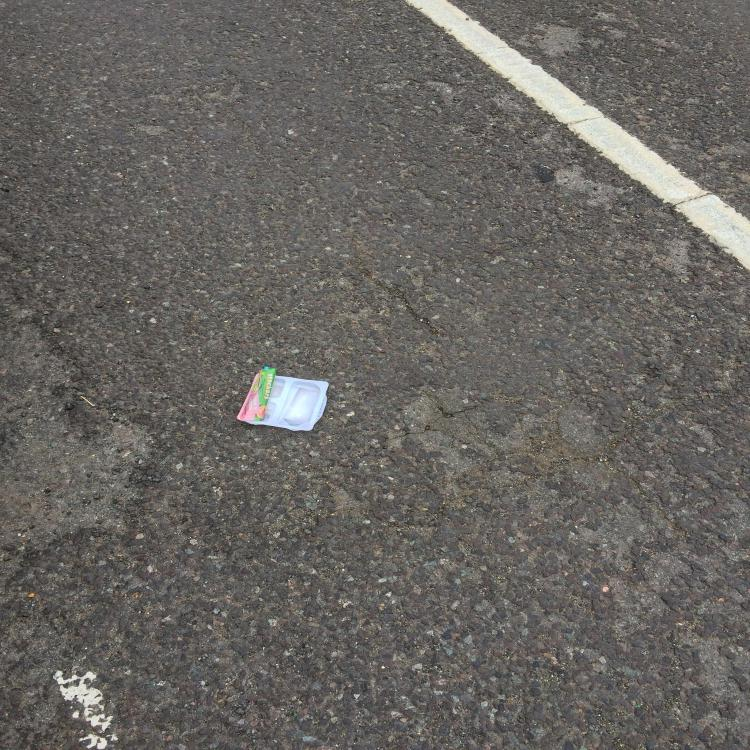Plastic film: (238, 366, 276, 420)
